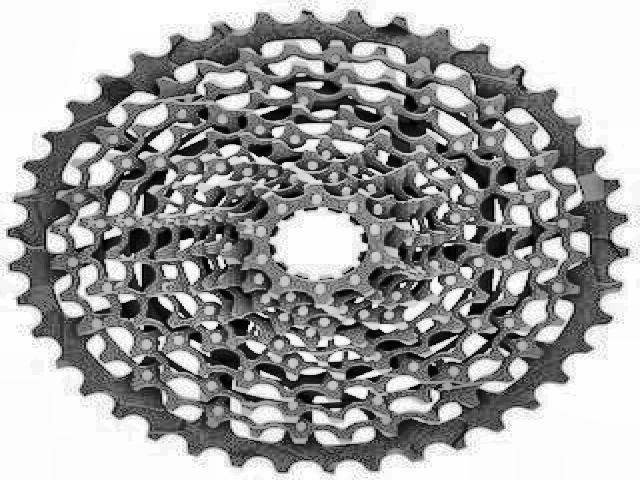cassette: (11, 10, 632, 474)
